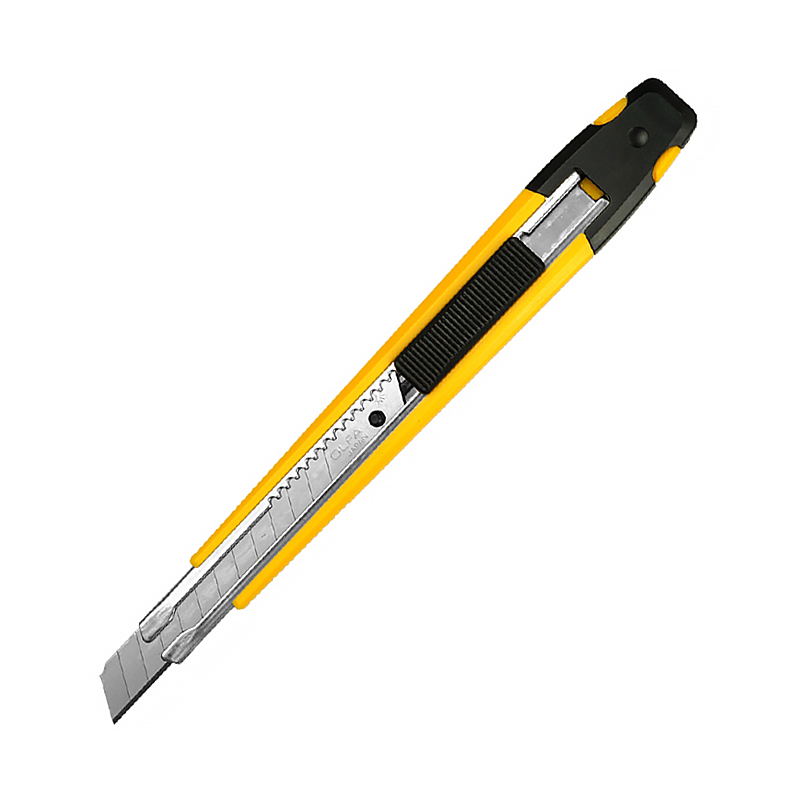cutter: (97, 74, 703, 727)
